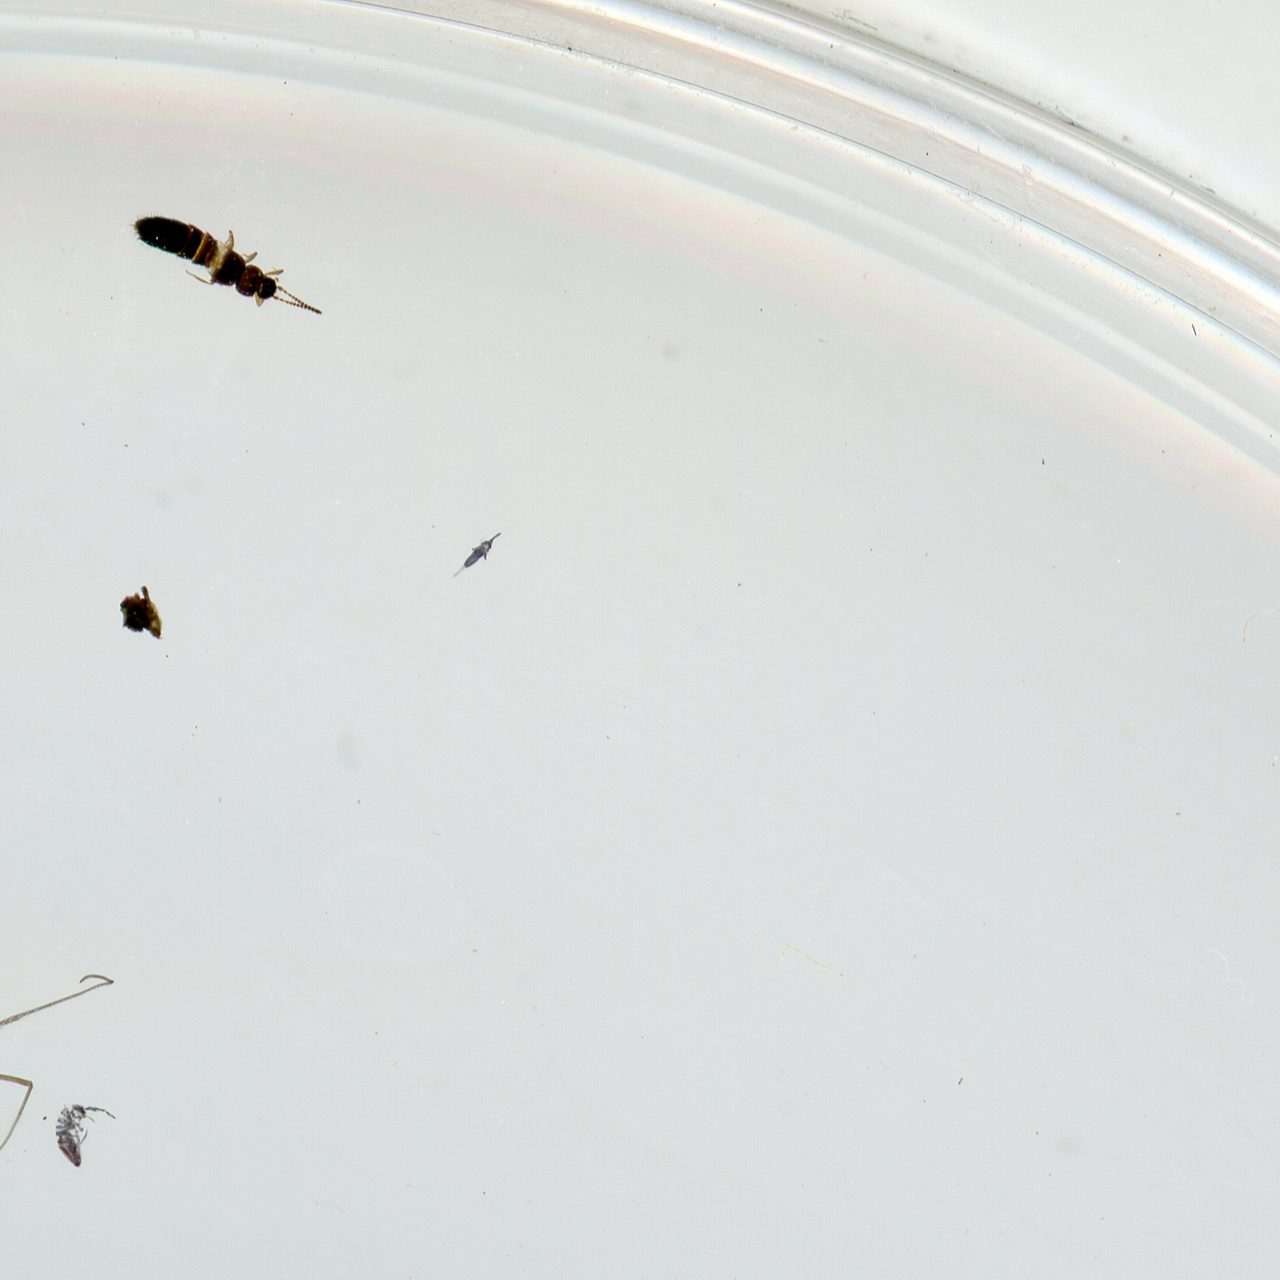arthropod: (107, 193, 346, 334), (0, 971, 115, 1173), (444, 518, 513, 592), (50, 1100, 119, 1170)
